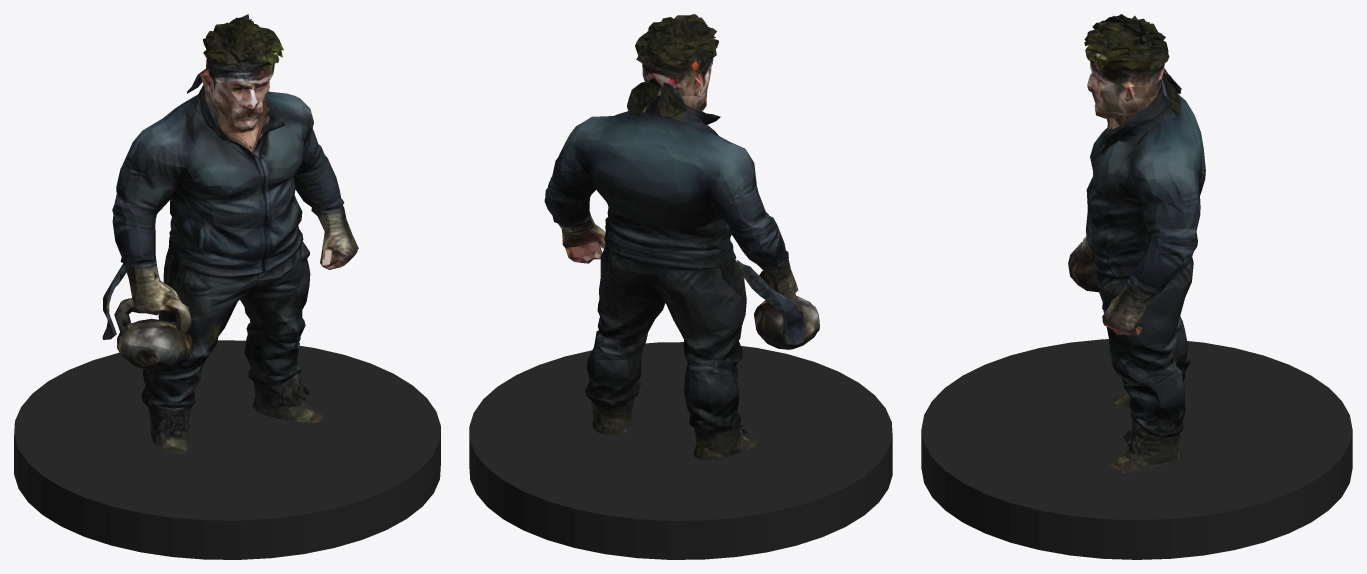
Rendered from buddy-davis.glb.
3 renders of one model, left to right at view 1: azimuth 30°, elevation 25°; view 2: azimuth 150°, elevation 25°; view 3: azimuth 270°, elevation 25°, orthographic.
Parts seen in each view (by area): view 1: base, figure; view 2: base, figure; view 3: base, figure.
Boxes of the visible parts, bbox=[...] form: base: bbox=[14, 340, 440, 559]; figure: bbox=[102, 14, 358, 454]; base: bbox=[469, 342, 892, 559]; figure: bbox=[544, 14, 819, 460]; base: bbox=[921, 339, 1352, 559]; figure: bbox=[1068, 14, 1205, 473].
Size of the model in its own units: 1.18 by 1.37 by 1.18.
2 materials, 1 textured.
